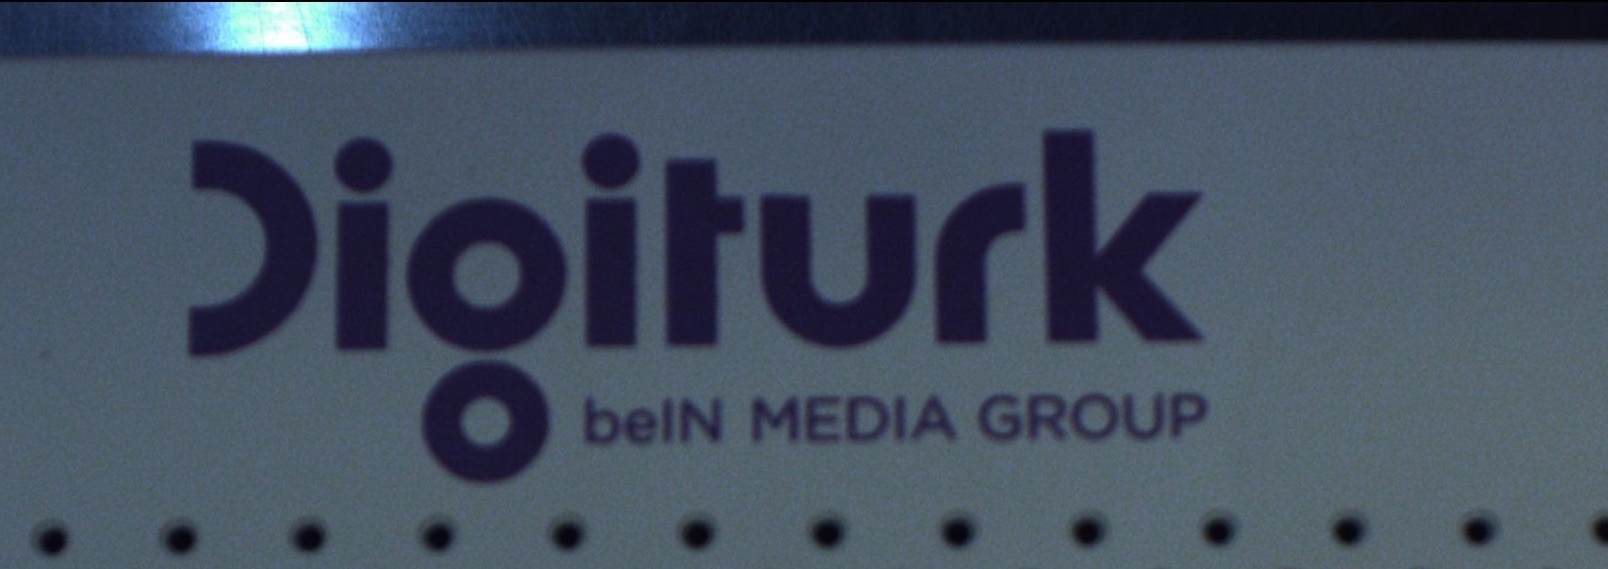BW_H168ADigiturk: (165, 92, 1264, 492)
